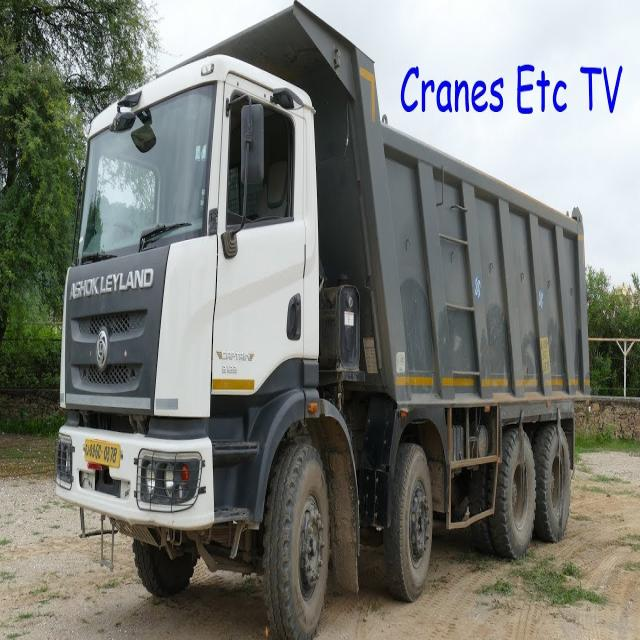truck: (55, 4, 589, 637)
